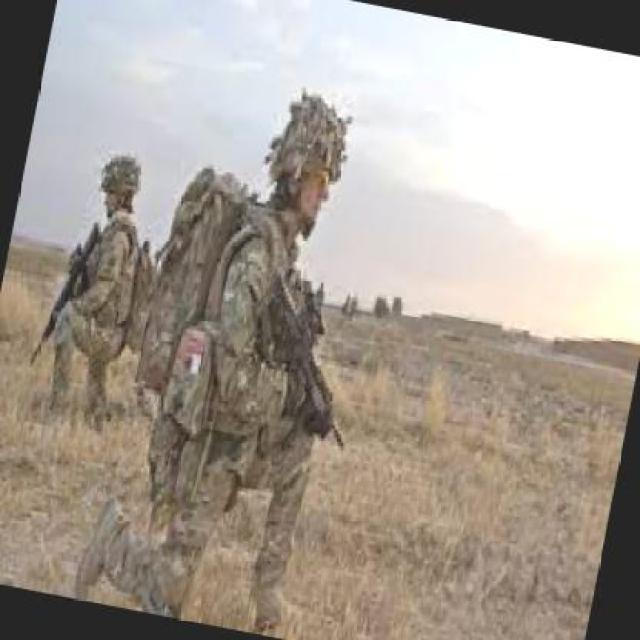MIL_Pax: (116, 71, 382, 634), (35, 147, 160, 427)
